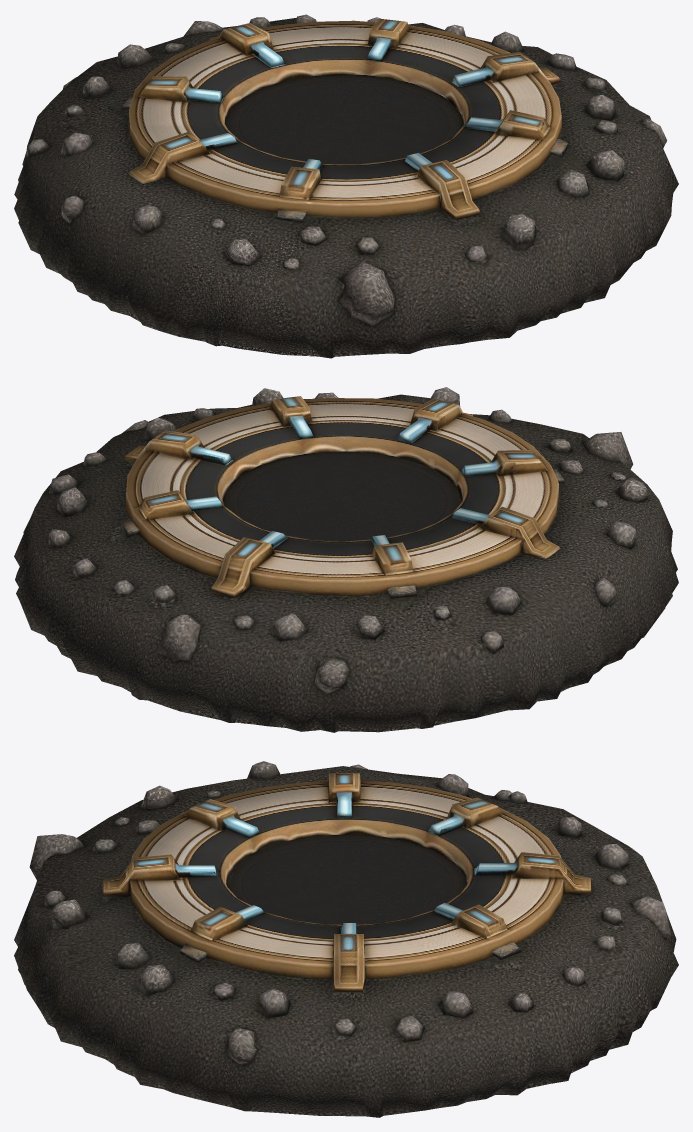
Rendered from moon-landing-standard.glb.
The picture shows the model from 3 angles, top to bottom: view 1: azimuth 30°, elevation 25°; view 2: azimuth 150°, elevation 25°; view 3: azimuth 270°, elevation 25°; orthographic projection.
Parts seen in each view (by area): view 1: tripo_node_7c052cba-d41c-4091-bd69-bcf74925c56d; view 2: tripo_node_7c052cba-d41c-4091-bd69-bcf74925c56d; view 3: tripo_node_7c052cba-d41c-4091-bd69-bcf74925c56d.
Part boxes in pixels (x1,y1,x2,y2): tripo_node_7c052cba-d41c-4091-bd69-bcf74925c56d: (14, 14, 678, 358); tripo_node_7c052cba-d41c-4091-bd69-bcf74925c56d: (14, 387, 678, 732); tripo_node_7c052cba-d41c-4091-bd69-bcf74925c56d: (14, 761, 678, 1117).
Bounding box in the file's own units: 1 × 0.2094 × 1.
Materials: 1 (1 with a texture image).
